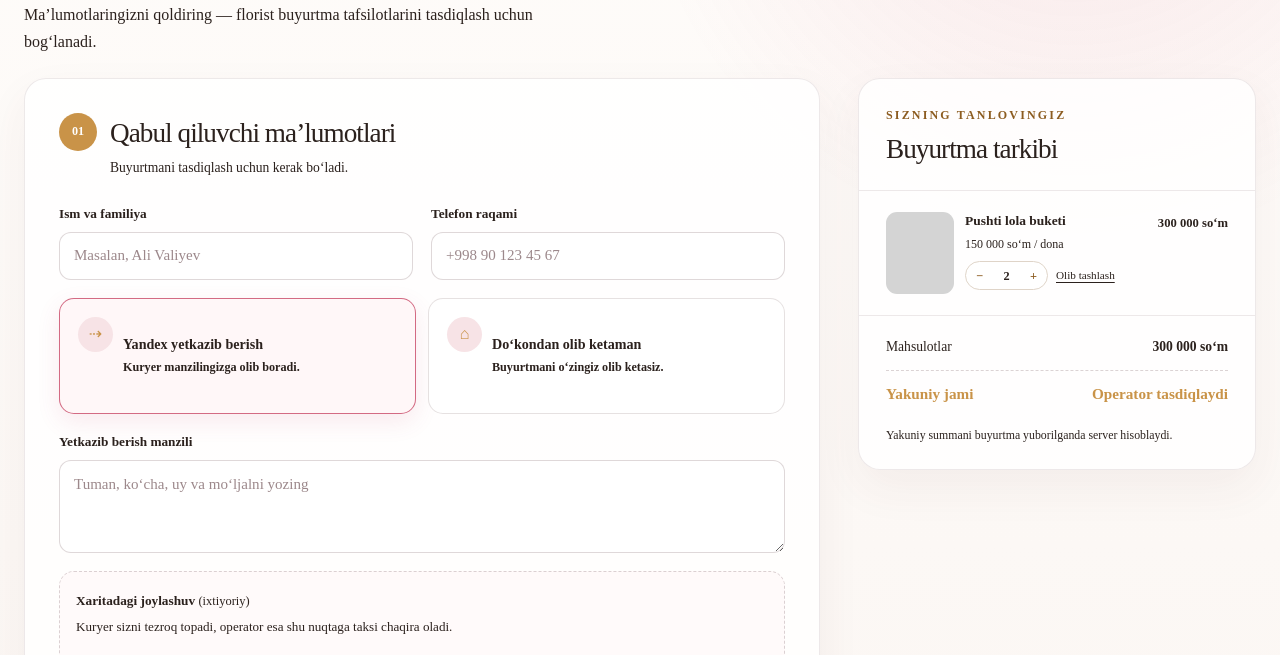
Test case: CheckoutClient › hides the address and the map once the shopper chooses to collect
(page scrolled)
Expected: the heading "Pushti lola buketi" is shown, [965,213,1066,228]
Click the radio button labelled "⌂ Do‘kondan olib ketaman Buyurtmani o‘zingiz olib ketasiz." at coordinates (464, 334), box [428,298,785,414]
(page scrolled)
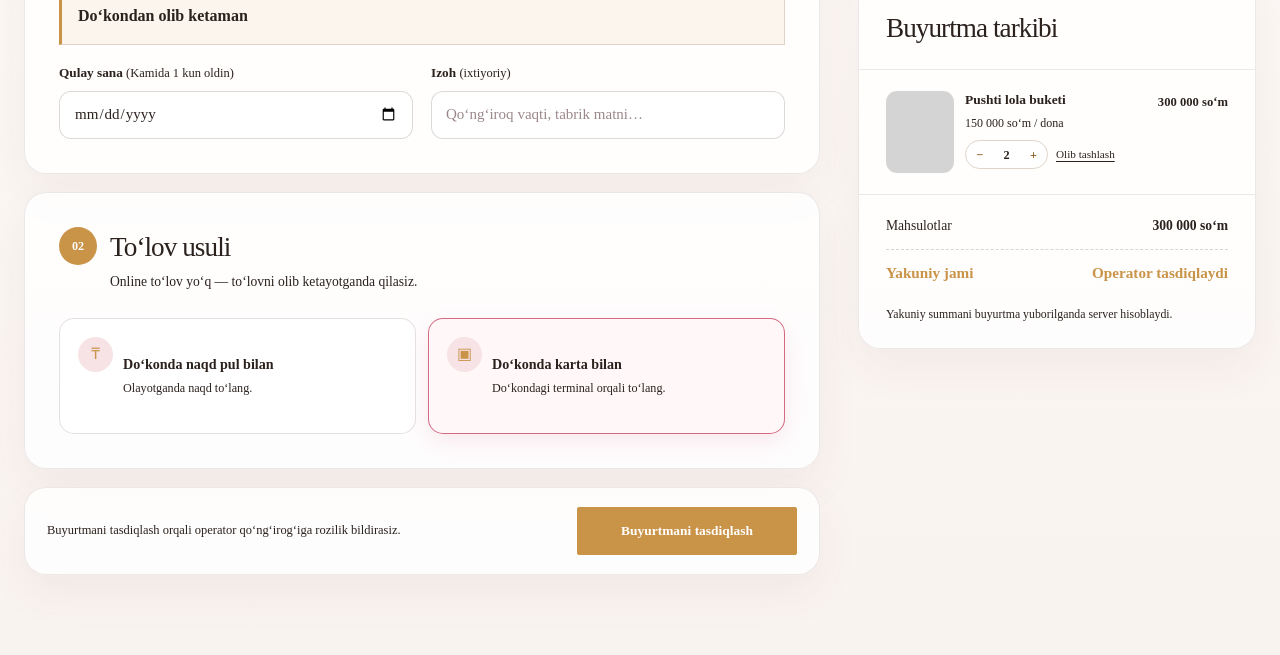
Result: the text labelled "Yetkazib berish manzili" is gone
Result: the text "Do‘konda naqd pul bilan" is shown at [123,356,274,372]
